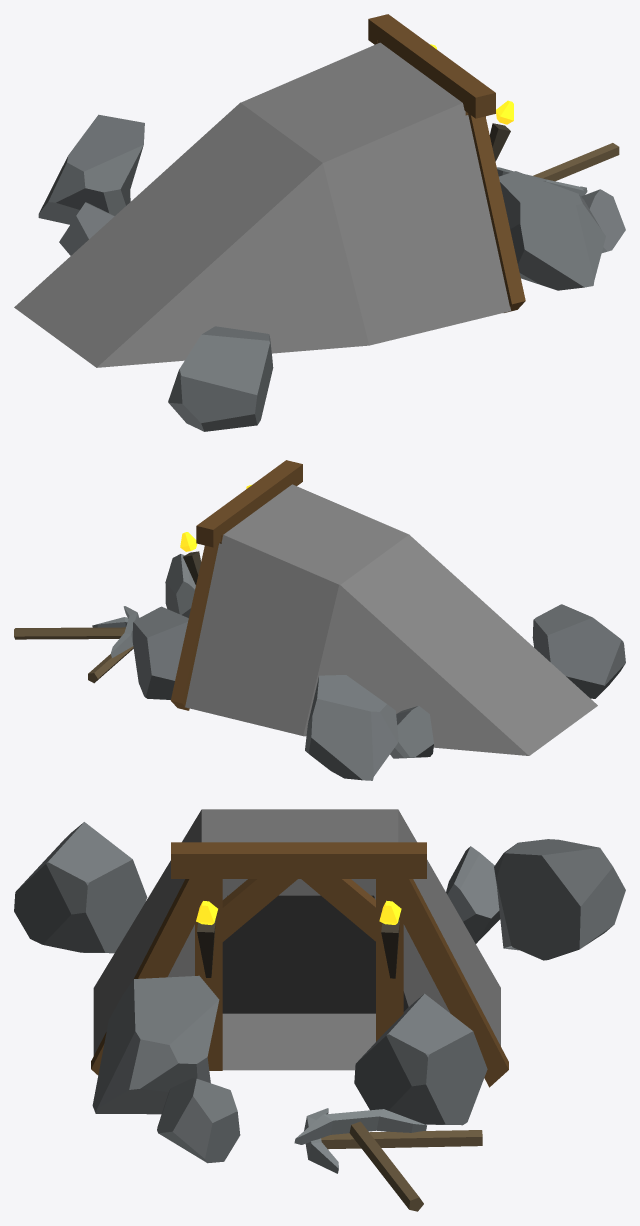
The model's file is StoneMineFlat1.fbx.
3 renders of one model, top to bottom at view 1: azimuth 30°, elevation 25°; view 2: azimuth 150°, elevation 25°; view 3: azimuth 270°, elevation 25°, orthographic. The views are drawn at different scales.
Parts seen in each view (by area): view 1: Cube, Cube.013, Cube.010, Cube.008, Cube.003, Cube.030, Cube.014, Cube.006, Cylinder.001; view 2: Cube, Cube.008, Cube.010, Cube.015, Cube.003, Cube.029, Cube.006, Cube.014, Cylinder.001, Cube.017, Cylinder; view 3: Cube, Cube.013, Cube.008, Cube.015, Cube.010, Cube.003, Cube.029, Cube.014, Cube.006, Cube.002, Cube.030, Cube.001 (+8 smaller).
Part boxes in pixels (x1,y1,x2,y2): Cube: (14,42,510,367); Cube.013: (499,171,605,290); Cube.010: (168,326,273,431); Cube.008: (38,114,144,224); Cube.003: (368,14,495,118); Cube.030: (468,113,525,312); Cube.014: (581,189,625,252); Cube.006: (59,202,114,255); Cylinder.001: (533,143,619,181); Cube: (185,484,597,755); Cube.008: (305,675,398,780); Cube.010: (532,604,625,698); Cube.015: (132,606,188,699); Cube.003: (196,460,302,547); Cube.029: (170,543,218,710); Cube.006: (390,706,433,758); Cube.014: (165,554,195,617); Cylinder.001: (14,627,125,639); Cube.017: (110,606,139,657); Cylinder: (88,646,133,683); Cube: (93,809,500,1070); Cube.013: (92,975,219,1114); Cube.008: (494,839,625,960); Cube.015: (354,993,487,1125); Cube.010: (14,822,147,953); Cube.003: (171,842,426,878); Cube.029: (403,879,508,1087); Cube.014: (157,1078,240,1163); Cube.006: (446,846,500,943); Cube.002: (376,879,403,1041); Cube.030: (91,879,194,1075); Cube.001: (195,870,222,1070).
Size of the model in its own units: 1146 by 405 by 836.
